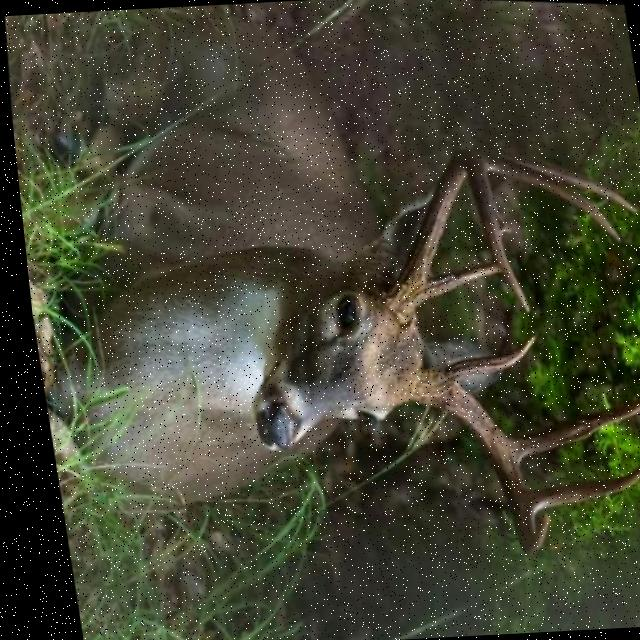L-E1: (494, 215, 508, 239)
L-F: (373, 150, 523, 319)
L-G1: (413, 263, 496, 304)
L-G2: (467, 147, 634, 216)
L-G3: (472, 152, 617, 244)
R-F: (400, 369, 539, 558)
R-G1: (430, 336, 529, 383)
R-G2: (496, 395, 640, 467)
R-G3: (515, 460, 640, 516)
